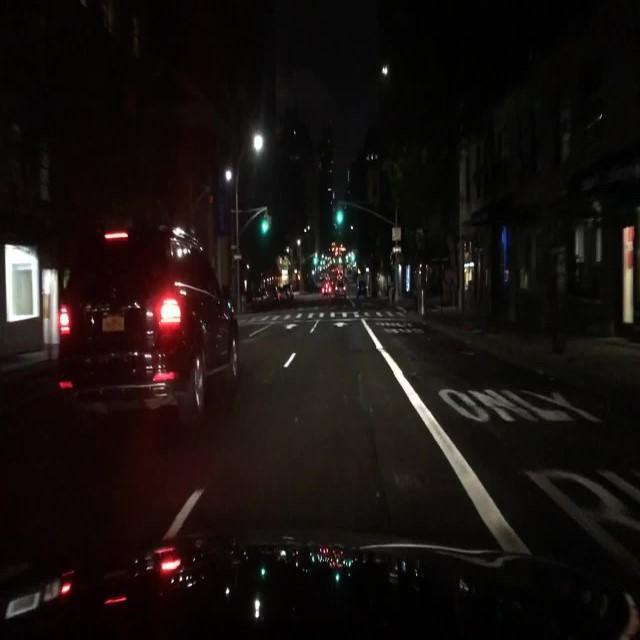normal: (50, 204, 254, 437)
